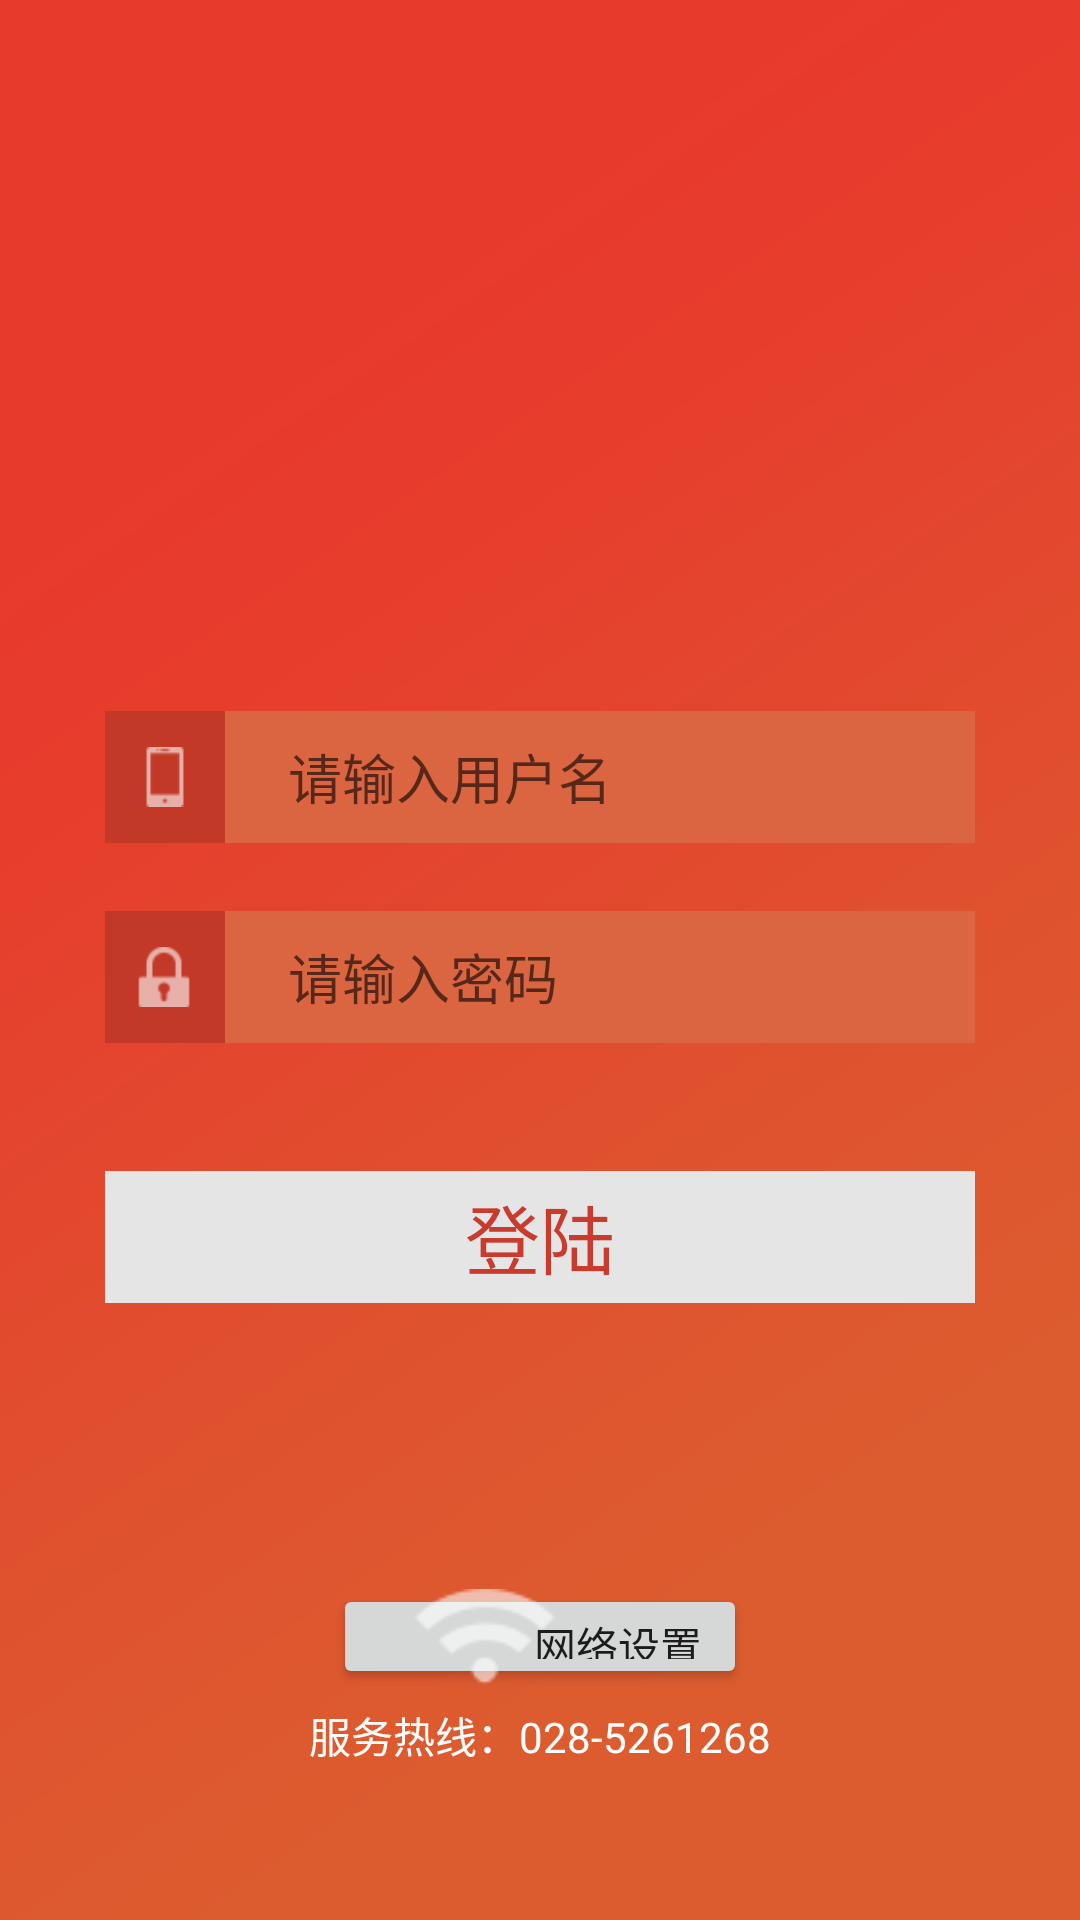

Icons on this 1080w x 1920h Android screen, each with the point to tap as (x,y):
login account: (165,777)
login password: (164,977)
